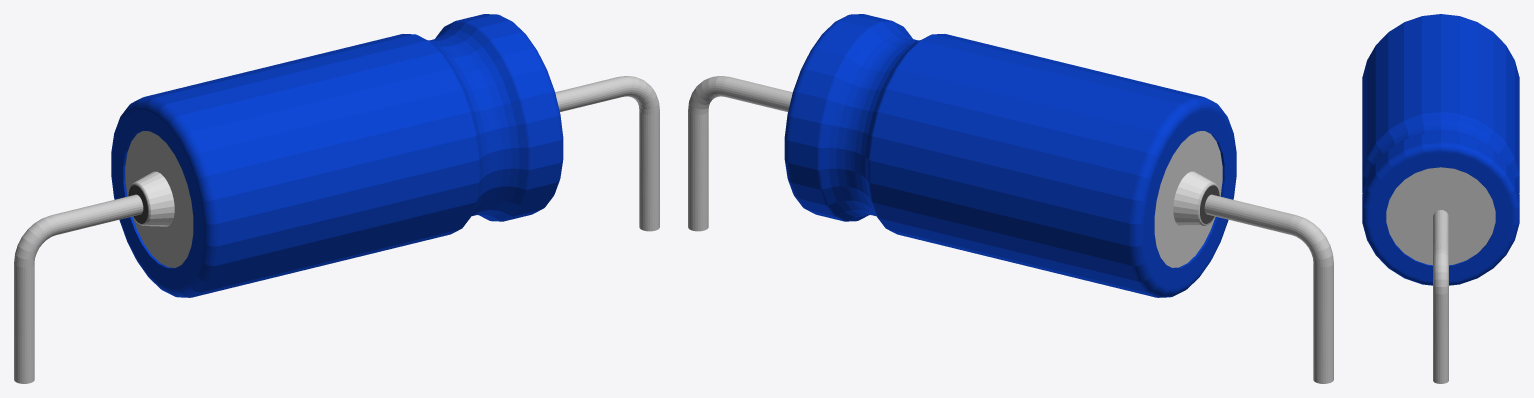
The model's file is Axial_D8mm_x_L11mm.obj.
3 views of the same model, side by side, from view 1: azimuth 30°, elevation 25°; view 2: azimuth 150°, elevation 25°; view 3: azimuth 270°, elevation 25° (orthographic). The views are drawn at different scales.
Parts seen in each view (by area): view 1: Axial_D8mm_x_L11mm; view 2: Axial_D8mm_x_L11mm; view 3: Axial_D8mm_x_L11mm.
Part boxes in pixels (bbox=[...]): Axial_D8mm_x_L11mm: bbox=[14, 14, 659, 383]; Axial_D8mm_x_L11mm: bbox=[688, 14, 1333, 383]; Axial_D8mm_x_L11mm: bbox=[1362, 14, 1519, 383].
Bounding box in the file's own units: 0.0153 × 0.00548 × 0.00422.
